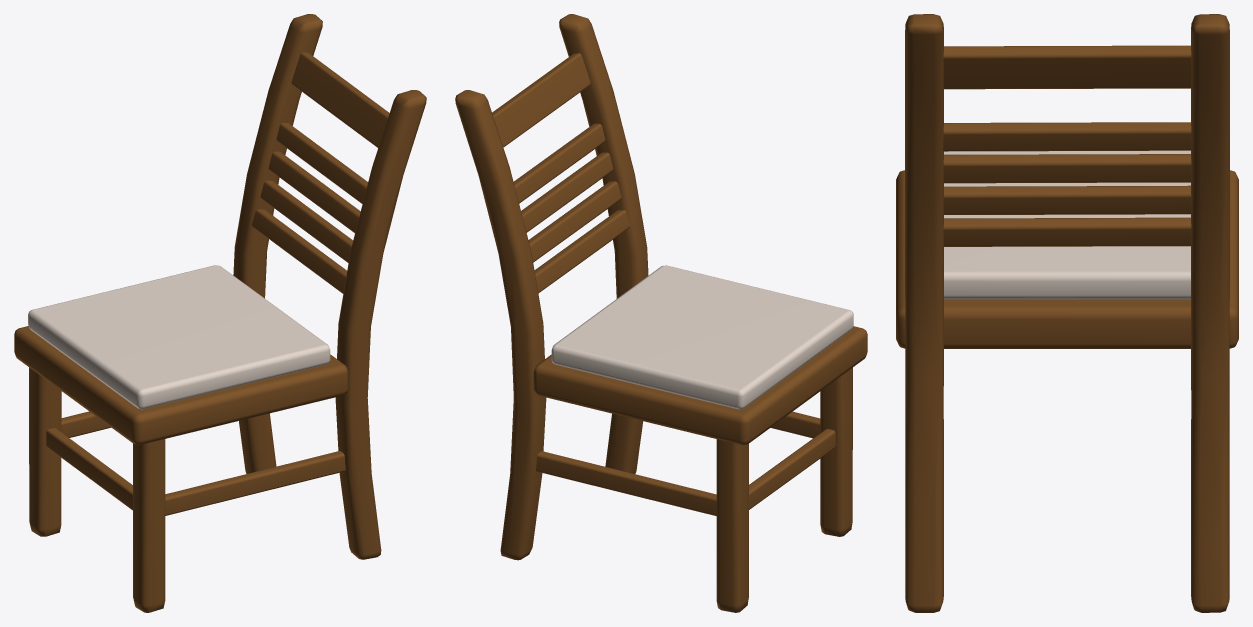
File: chair_01_wooden.fbx
3 renders of one model, left to right at view 1: azimuth 30°, elevation 25°; view 2: azimuth 150°, elevation 25°; view 3: azimuth 270°, elevation 25°, orthographic. The views are drawn at different scales.
Visible parts, largest first — view 1: chair_01_wooden; view 2: chair_01_wooden; view 3: chair_01_wooden.
Boxes of the visible parts, x1,y1,x2,y2 form: chair_01_wooden: (14,14,426,612); chair_01_wooden: (455,14,867,612); chair_01_wooden: (896,14,1238,612).
Size of the model in its own units: 73.08 by 106 by 53.
Materials: 2 (2 with a texture image).
